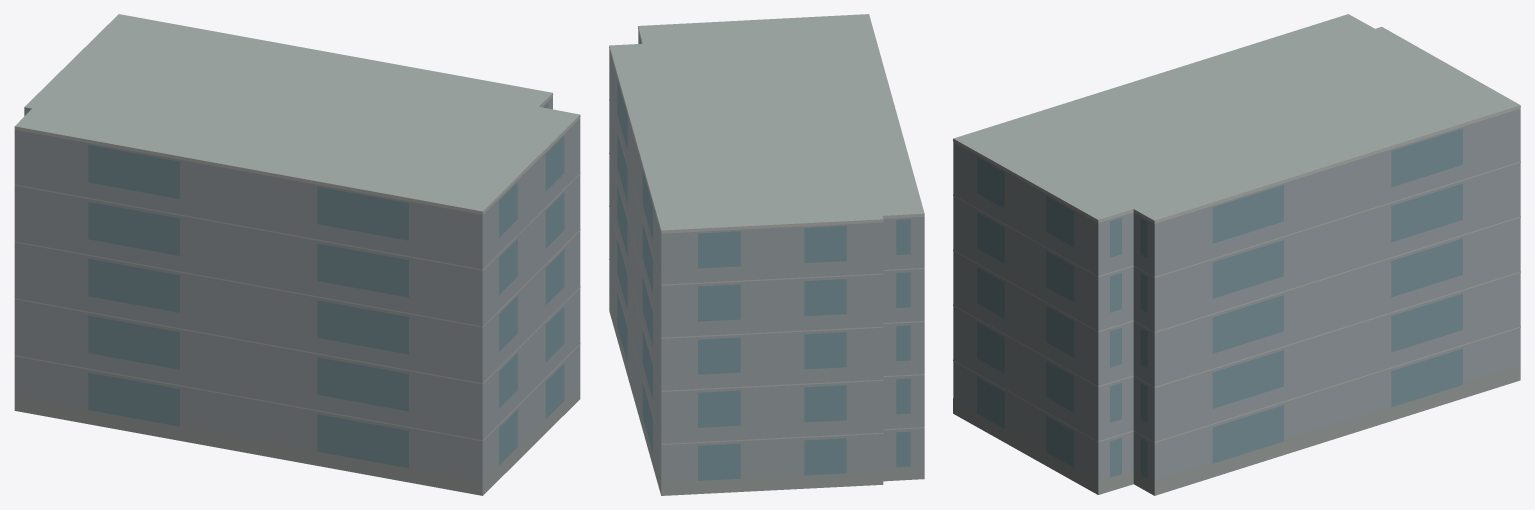
Rendered from survey-upis-32520811.glb.
The picture shows the model from 3 angles, left to right: view 1: azimuth 30°, elevation 25°; view 2: azimuth 150°, elevation 25°; view 3: azimuth 270°, elevation 25°; orthographic projection. The views are drawn at different scales.
Visible parts, largest first — view 1: survey-upis-32520811.tmp; view 2: survey-upis-32520811.tmp; view 3: survey-upis-32520811.tmp.
Part boxes in pixels (left/top/right/bottom): survey-upis-32520811.tmp: left=14, top=14, right=580, bottom=495; survey-upis-32520811.tmp: left=609, top=14, right=924, bottom=495; survey-upis-32520811.tmp: left=953, top=14, right=1520, bottom=495.
Size of the model in its own units: 33.07 by 20.5 by 38.35.
